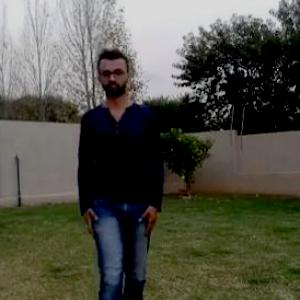follow: (82, 58, 160, 299)
